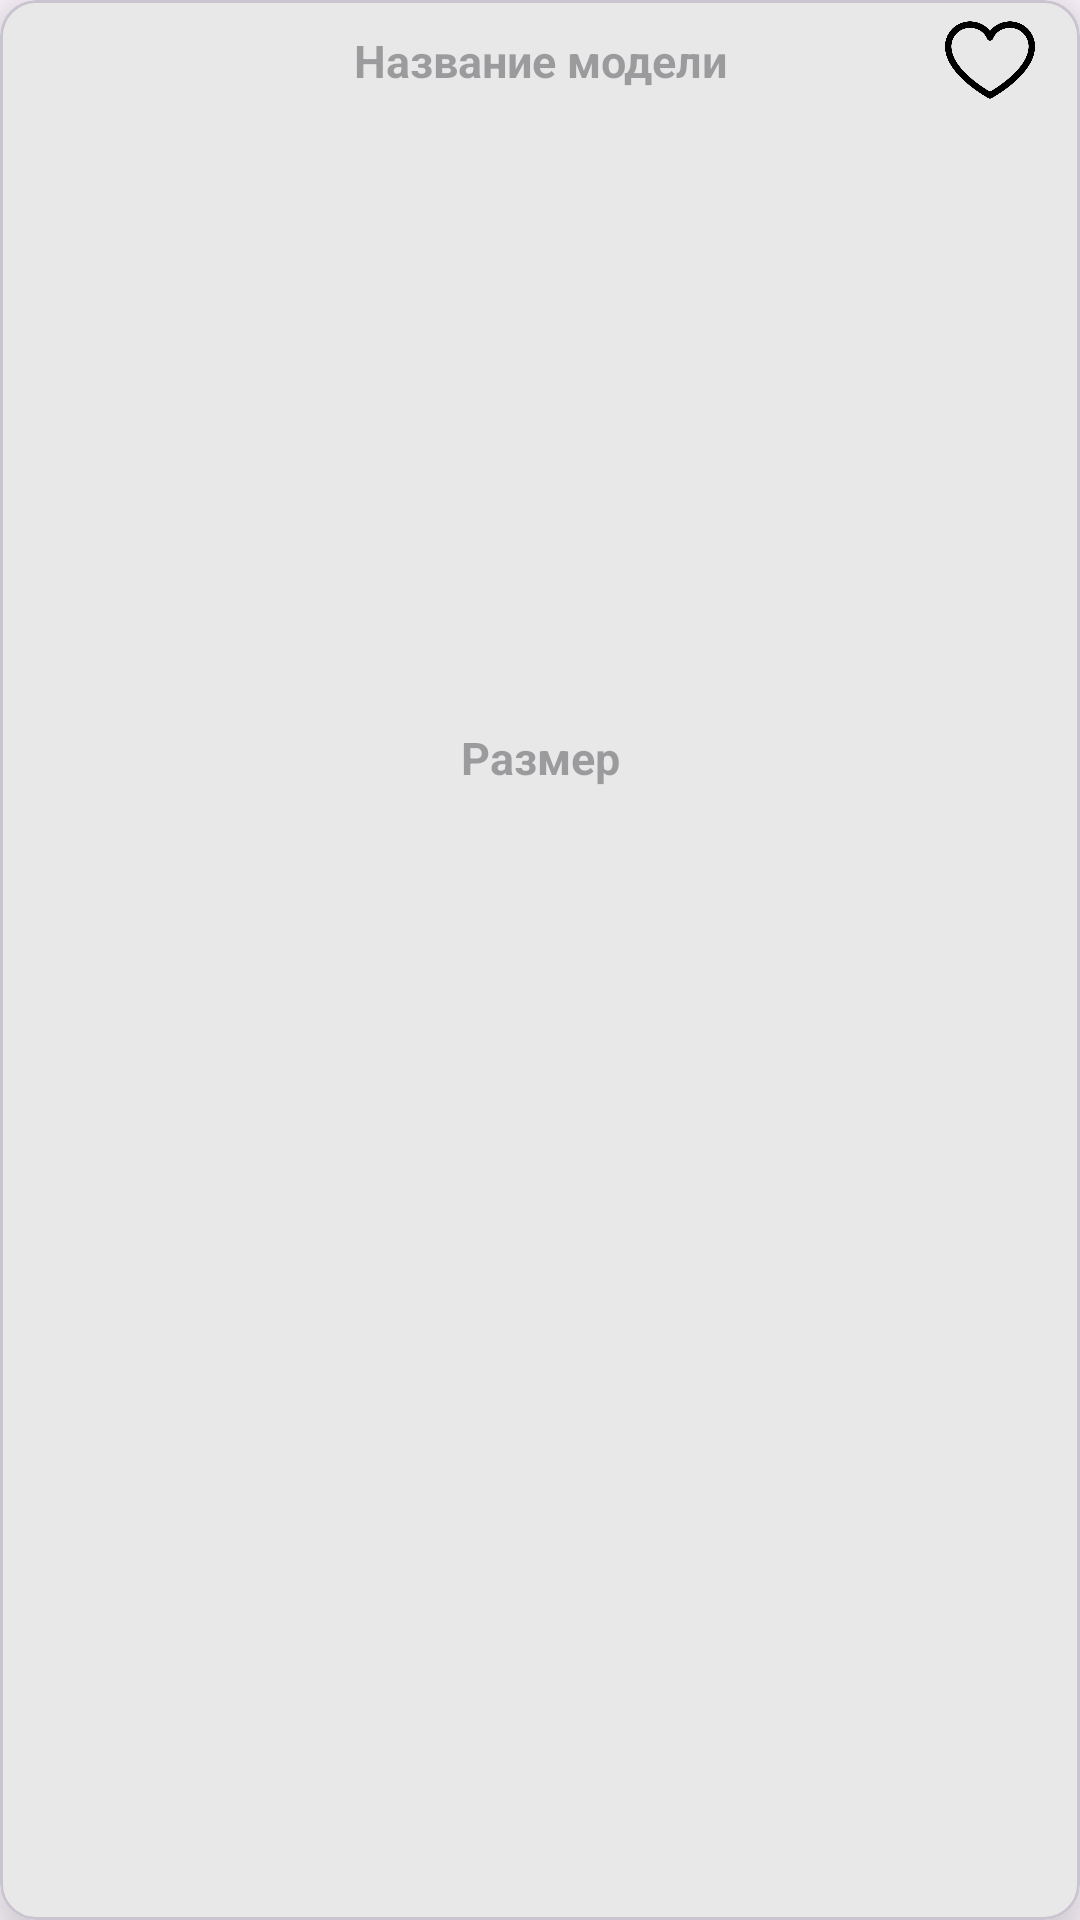

Screen size 1080 × 1920. Icon name, then its center in pixels as [x,y]:
like: [990,60]
